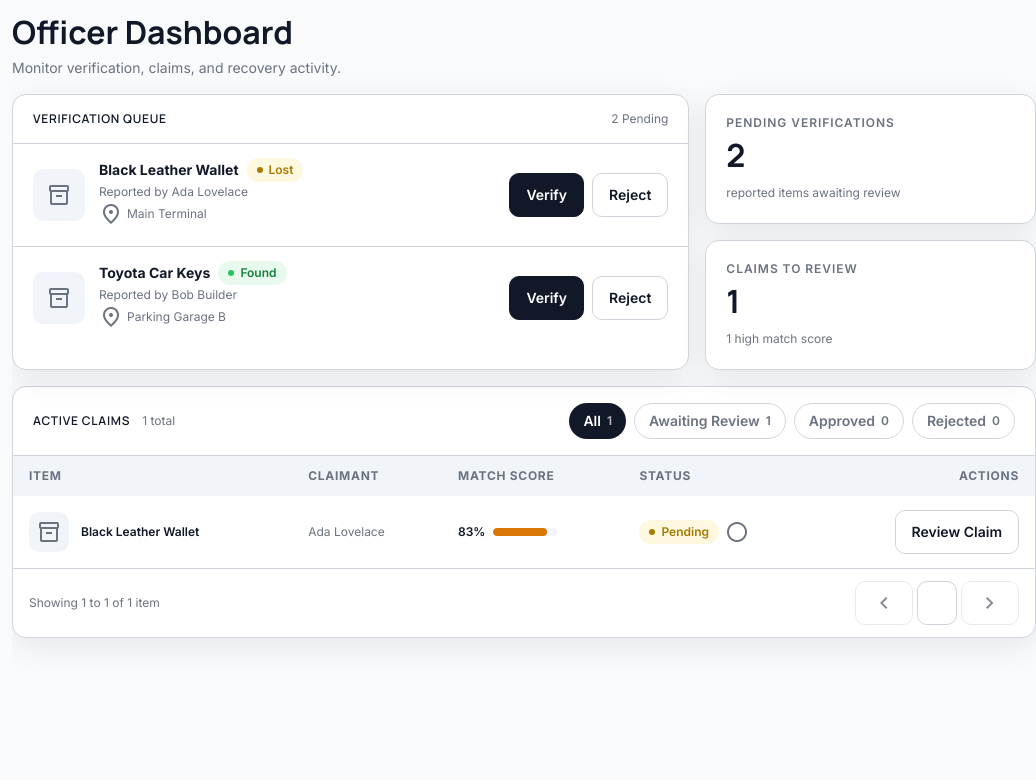
OfficerDashboard › narrows the active claims table with its filter tabs
The width and height of the screenshot is (1036, 780).
Expected: the heading "Verification Queue" is shown, [33, 111, 167, 127]
Click the tab "Approved 0": click(849, 421) [794, 403, 904, 439]
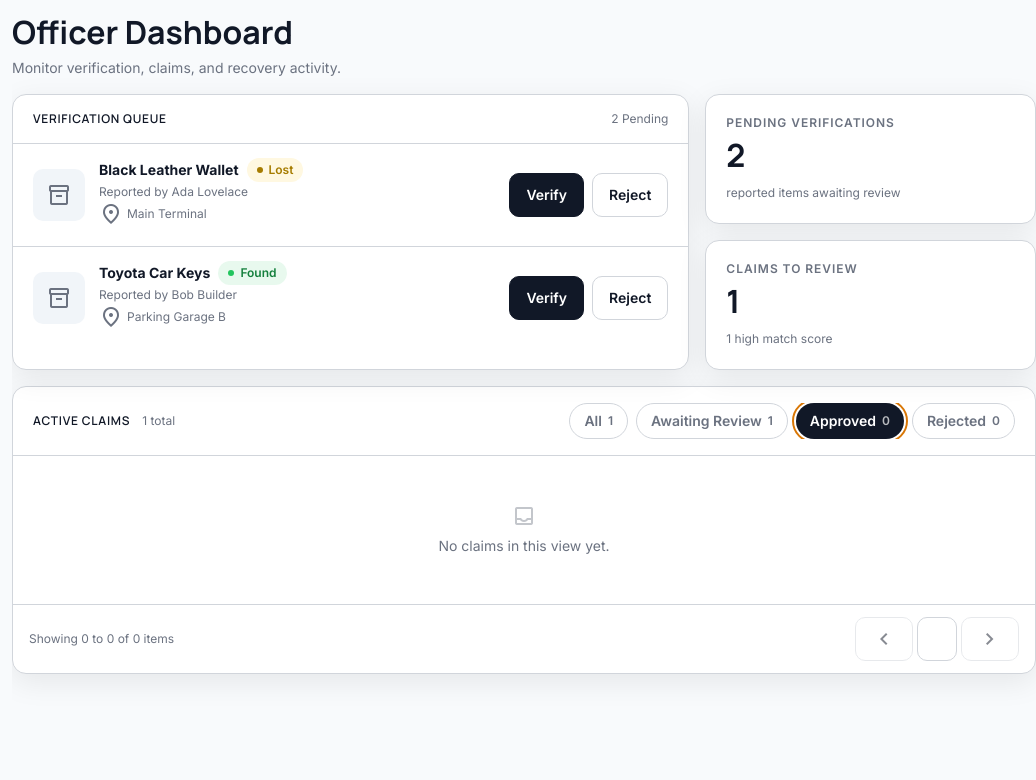
Now the text "No claims in this view yet." is shown, box [438, 537, 610, 554]
Click the tab "All 1": click(599, 421) [569, 403, 628, 439]
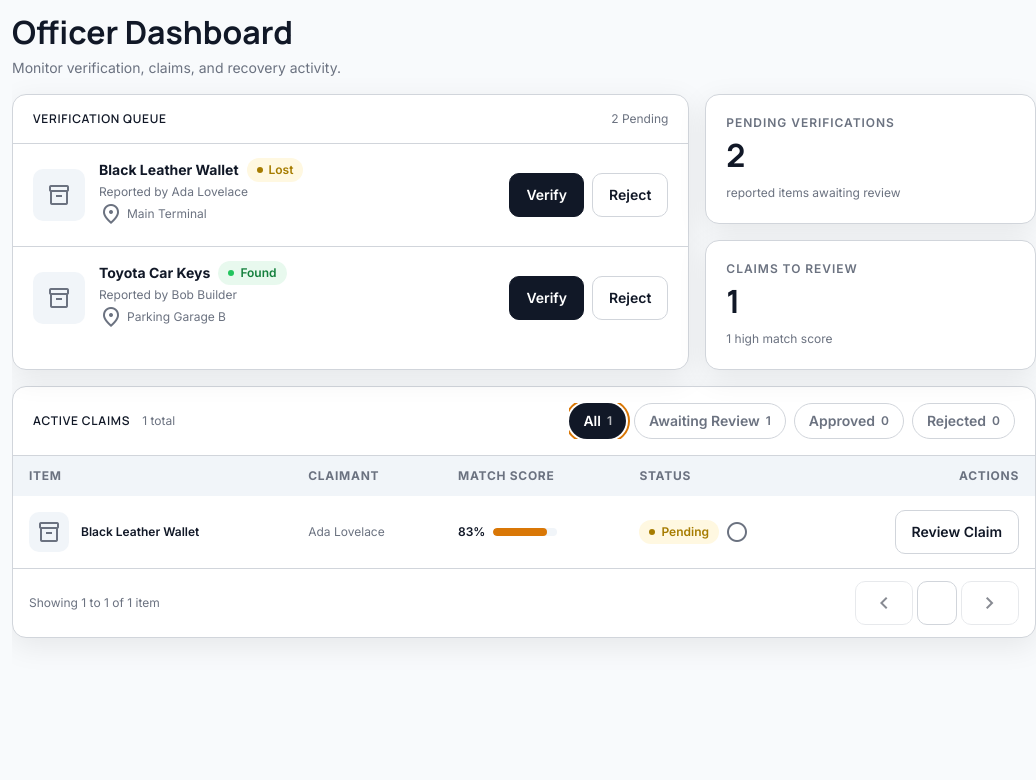
Now the text "Ada Lovelace" is shown, box [292, 496, 442, 568]
